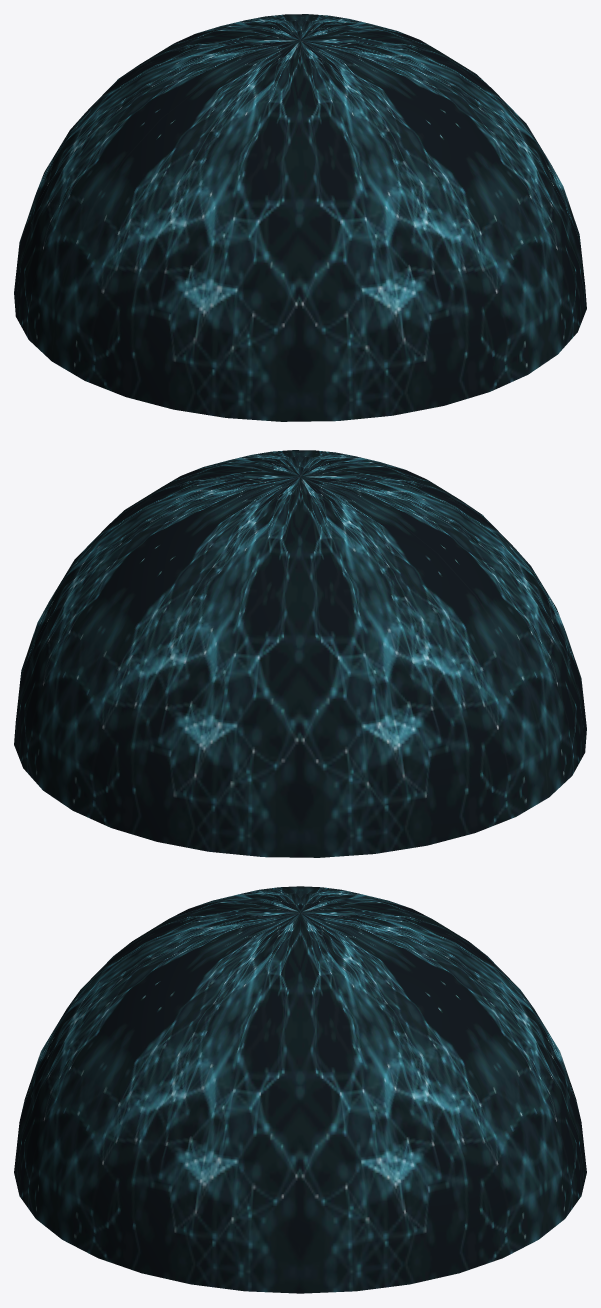
Rendered from cupula01.glb.
The picture shows the model from 3 angles, top to bottom: view 1: azimuth 30°, elevation 25°; view 2: azimuth 150°, elevation 25°; view 3: azimuth 270°, elevation 25°; orthographic projection.
Parts seen in each view (by area): view 1: Sphere; view 2: Sphere; view 3: Sphere.
Boxes of the visible parts, <box> form: Sphere: <box>14,14,586,421</box>; Sphere: <box>14,450,586,857</box>; Sphere: <box>14,886,586,1293</box>.
Size of the model in its own units: 40 by 20 by 40.
1 material, 1 textured.
